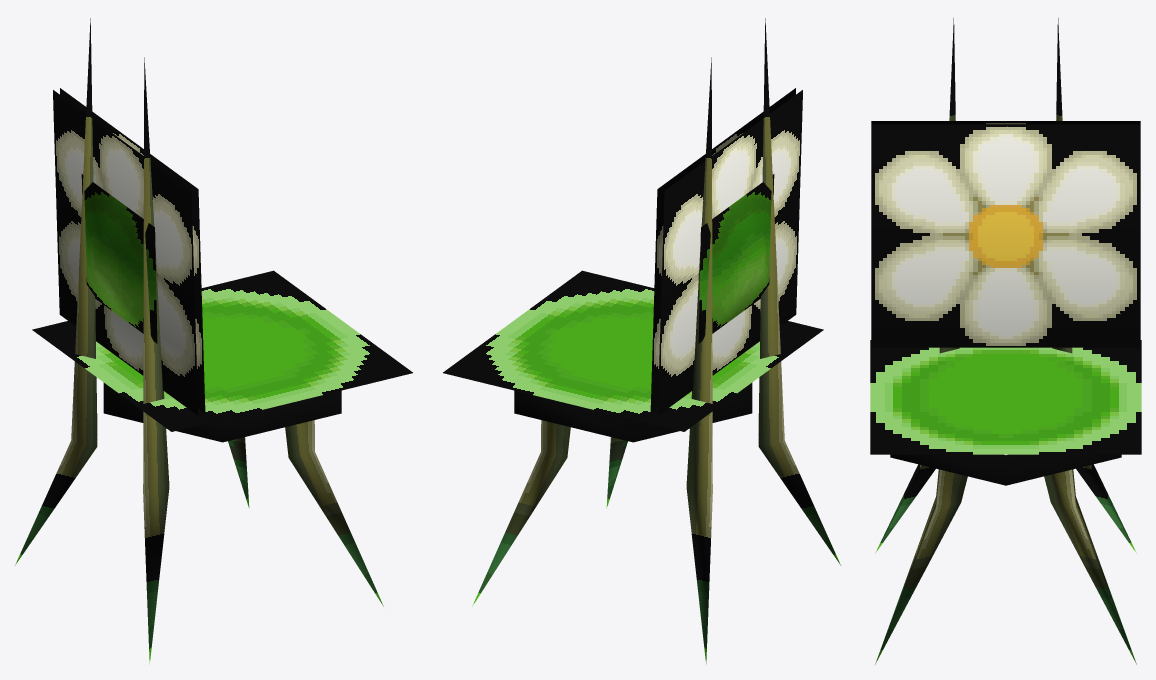
3 views of the same model, side by side, from view 1: azimuth 30°, elevation 25°; view 2: azimuth 150°, elevation 25°; view 3: azimuth 270°, elevation 25° (orthographic). The views are drawn at different scales.
Parts seen in each view (by area): view 1: 3581kg_22_isu; view 2: 3581kg_22_isu; view 3: 3581kg_22_isu.
Boxes of the visible parts, x1,y1,x2,y2 form: 3581kg_22_isu: (15,18,412,664); 3581kg_22_isu: (443,18,840,664); 3581kg_22_isu: (870,18,1141,664).
Bounding box in the file's own units: 0.8291 × 1.74 × 0.7671.
Materials: 3 (3 with a texture image).
